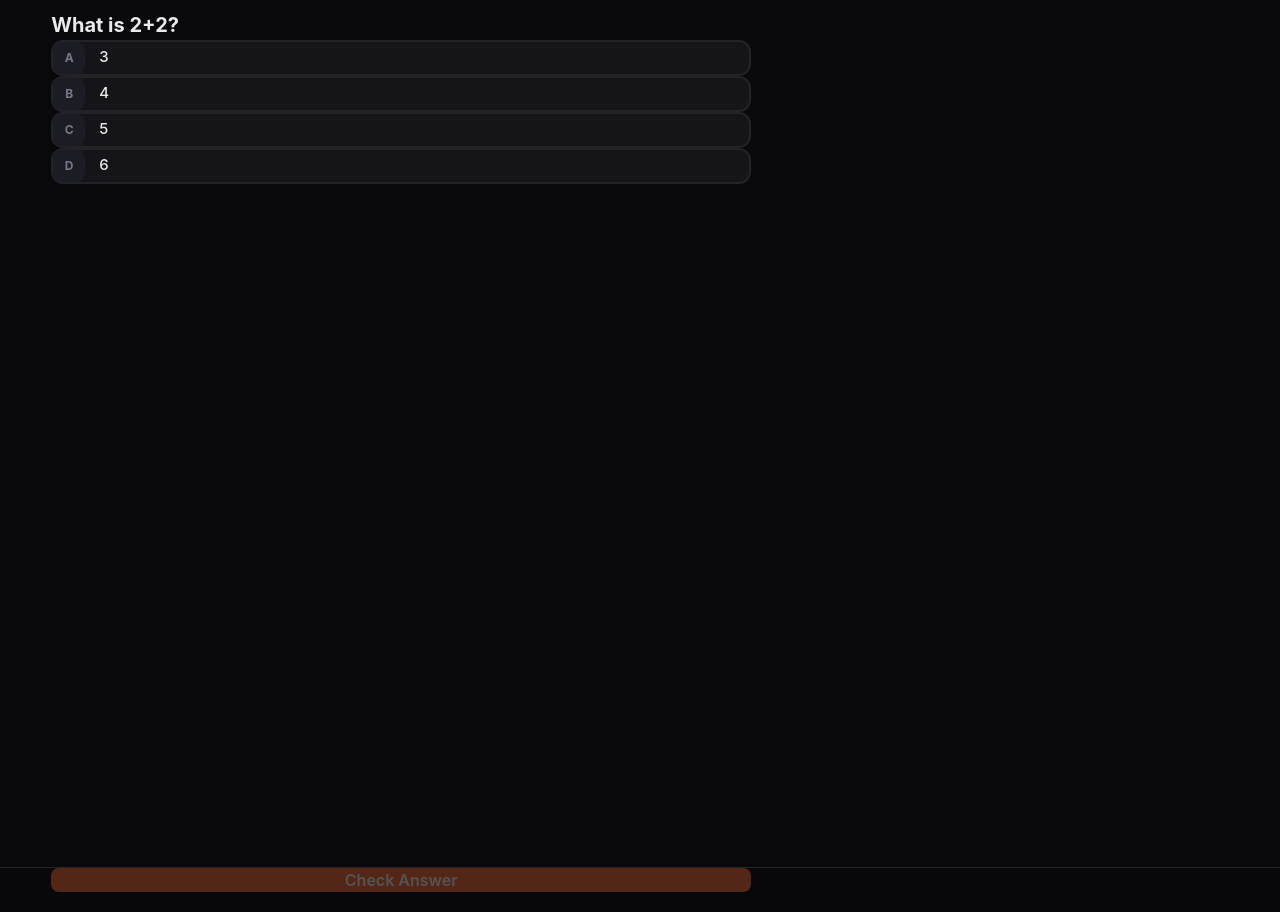
it: Quiz component › shows "try again" on wrong first attempt
The width and height of the screenshot is (1280, 912).
What coordinates should you click on to do the following:
click the radio button labelled "A 3"
I would click on:
 (69, 58)
Its box is left=51, top=40, right=751, bottom=76.
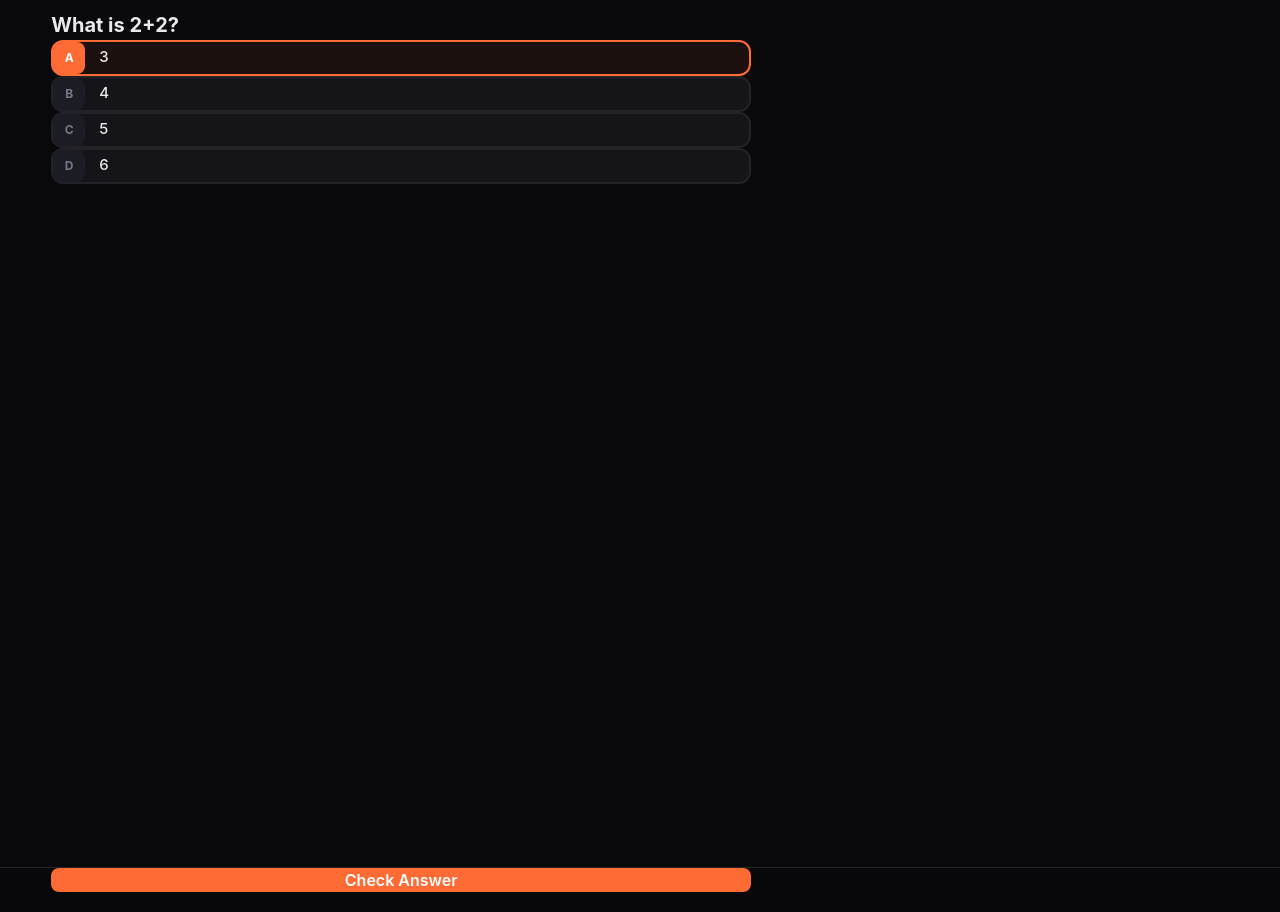
What coordinates should you click on to do the following:
click the button "Check Answer"
I would click on:
 (401, 880)
Its box is left=51, top=868, right=751, bottom=892.
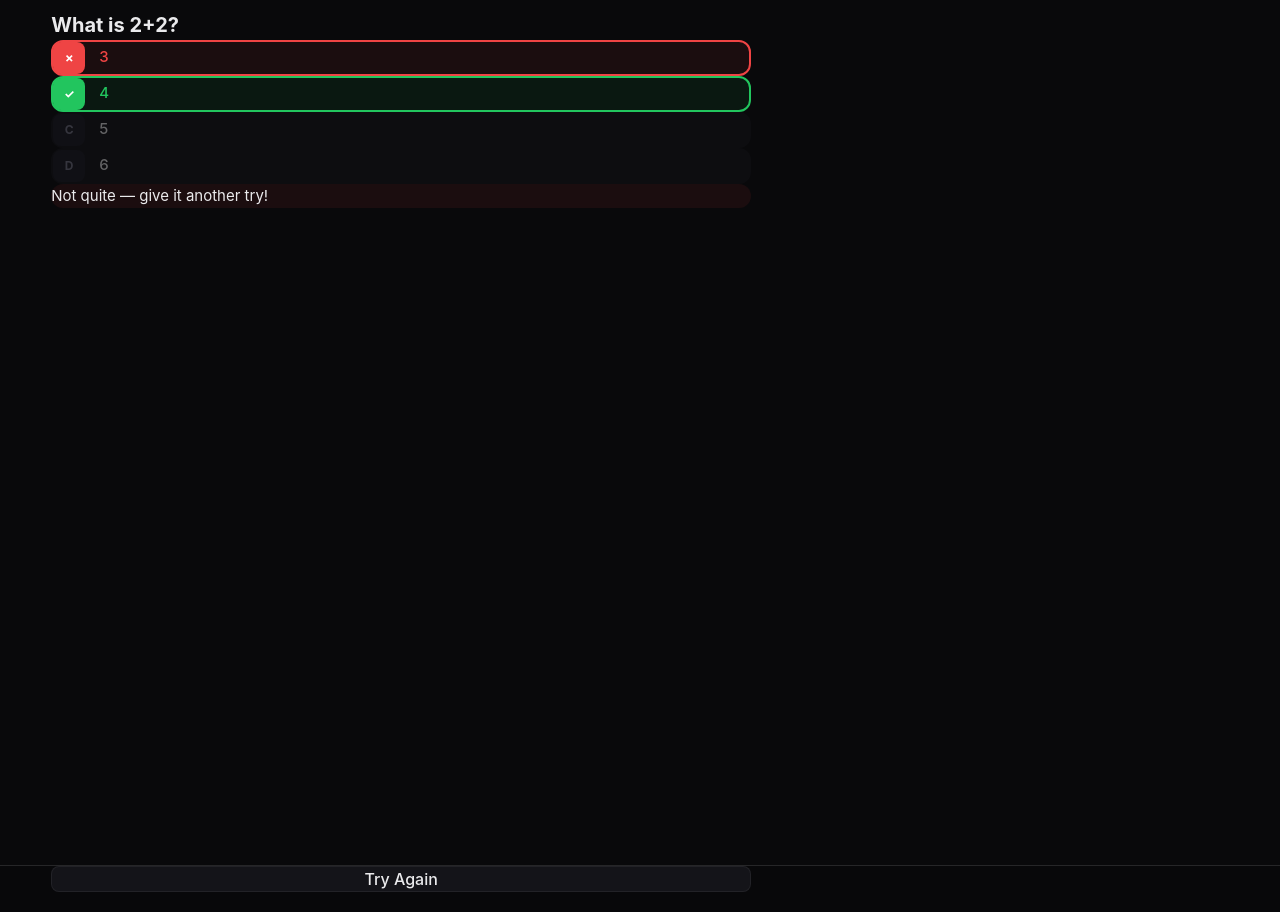
Expected: the text "Not quite — give it another try!" is shown, left=51, top=186, right=268, bottom=204
Expected: the button "Try Again" is shown, left=51, top=866, right=751, bottom=892
